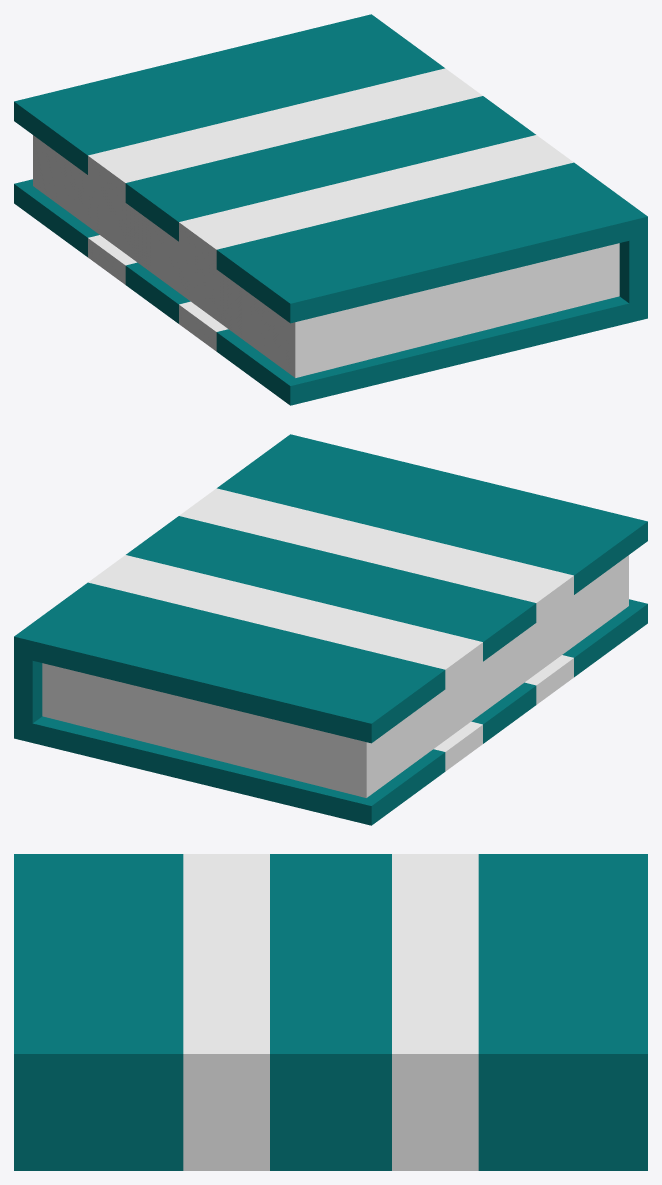
The model's file is Book_5.fbx.
3 renders of one model, top to bottom at view 1: azimuth 30°, elevation 25°; view 2: azimuth 150°, elevation 25°; view 3: azimuth 270°, elevation 25°, orthographic. The views are drawn at different scales.
Visible parts, largest first — view 1: Book_5; view 2: Book_5; view 3: Book_5.
Part boxes in pixels (x1,y1,x2,y2): Book_5: (14, 14, 647, 405); Book_5: (14, 434, 647, 825); Book_5: (14, 854, 647, 1170).
Bounding box in the file's own units: 0.1697 × 0.0462 × 0.2273.
